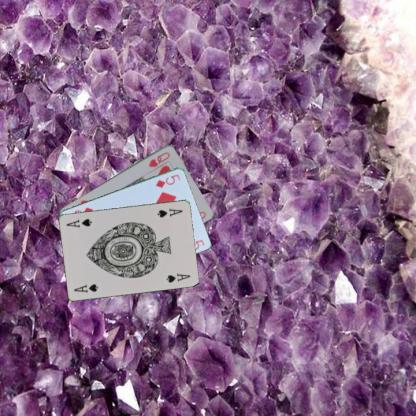5d: (153, 172, 182, 189)
As: (155, 206, 184, 218), (72, 282, 100, 294)
Qh: (146, 149, 171, 168)
